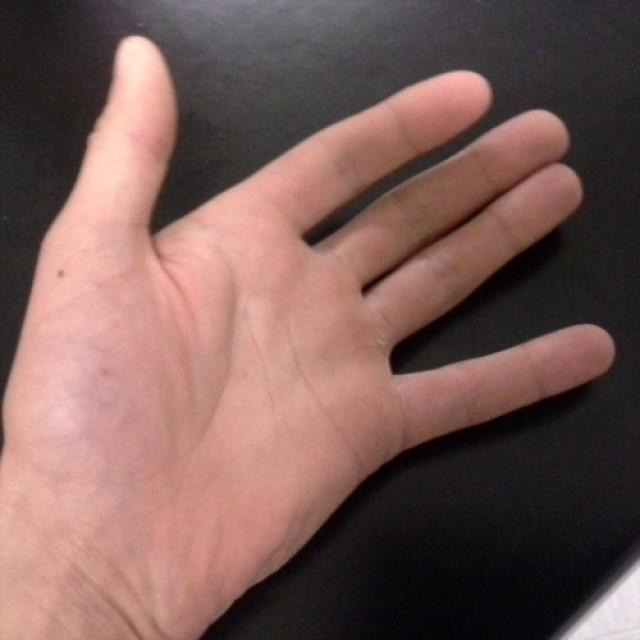paper: (26, 31, 617, 523)
